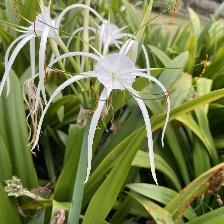spider lily: (30, 39, 173, 191), (2, 1, 75, 78), (69, 1, 138, 52)
